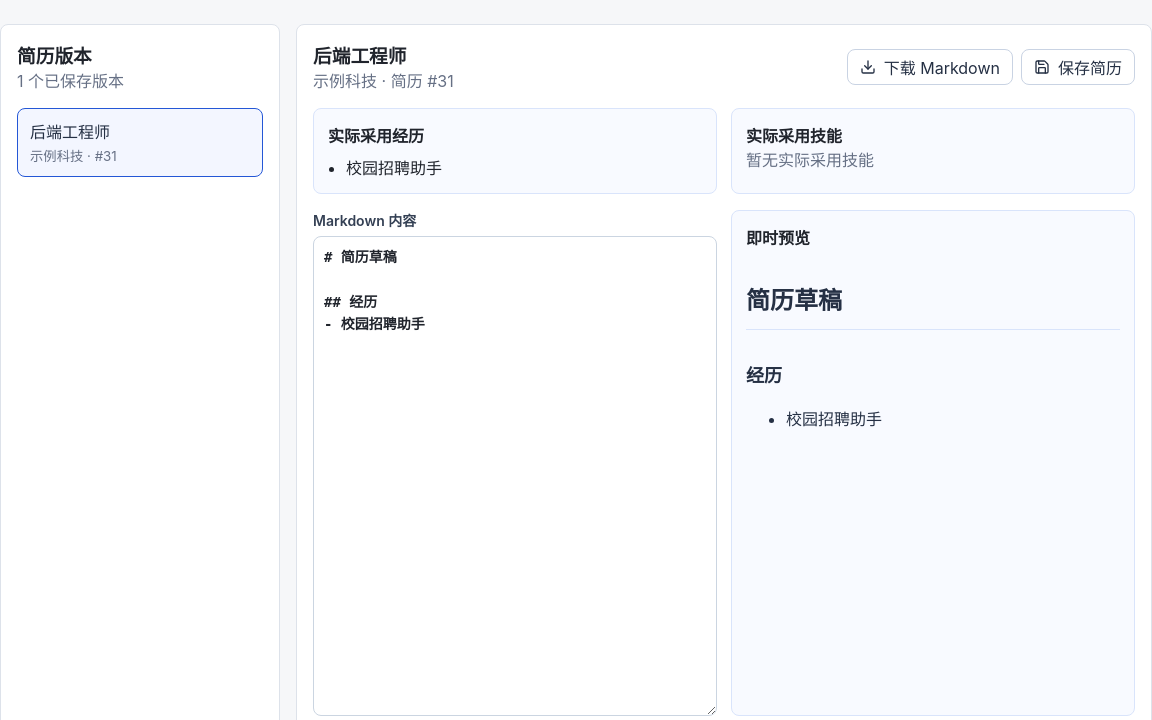
it: ResumeVersionsPage › blocks stale markdown download until the draft is saved
Replace the text in the text box labelled "Markdown 内容" with "# 未保存草稿". click: point(515, 476)
box: x1=313 y1=236 x2=717 y2=716
(page scrolled)
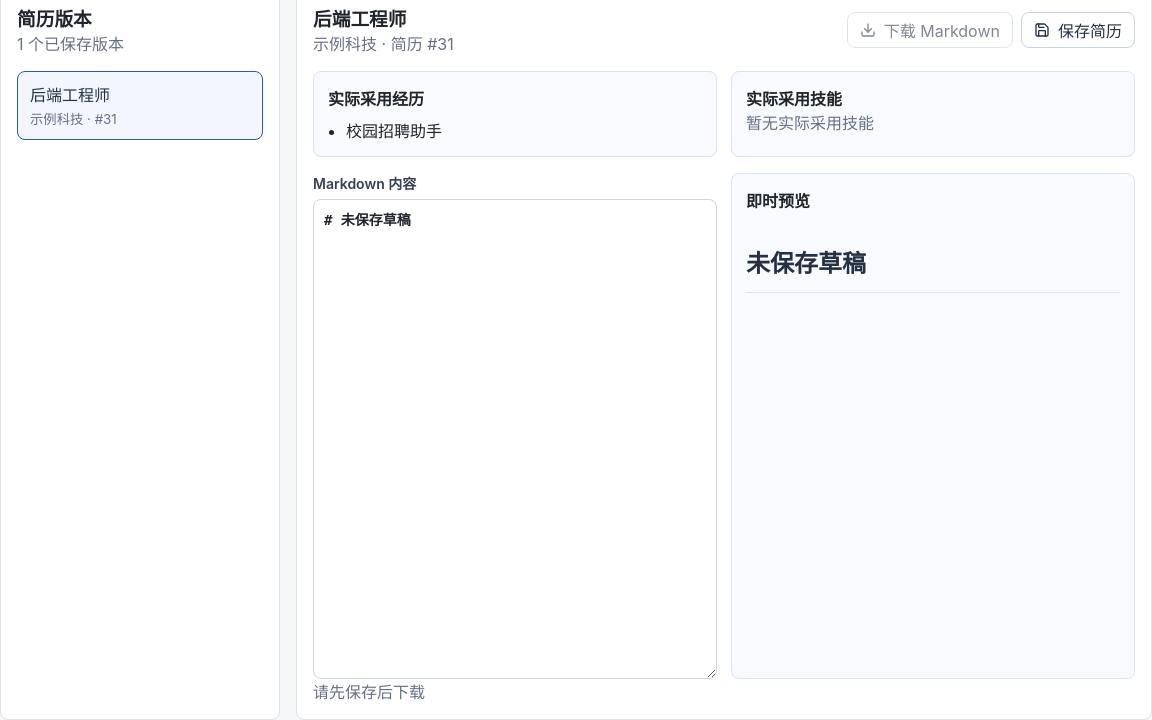
expect the button "下载 Markdown" is disabled: met, box x1=847 y1=12 x2=1013 y2=48
expect the text "请先保存后下载" is shown: met, box x1=313 y1=682 x2=425 y2=702
